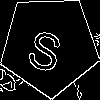S: (24, 20, 68, 74)
